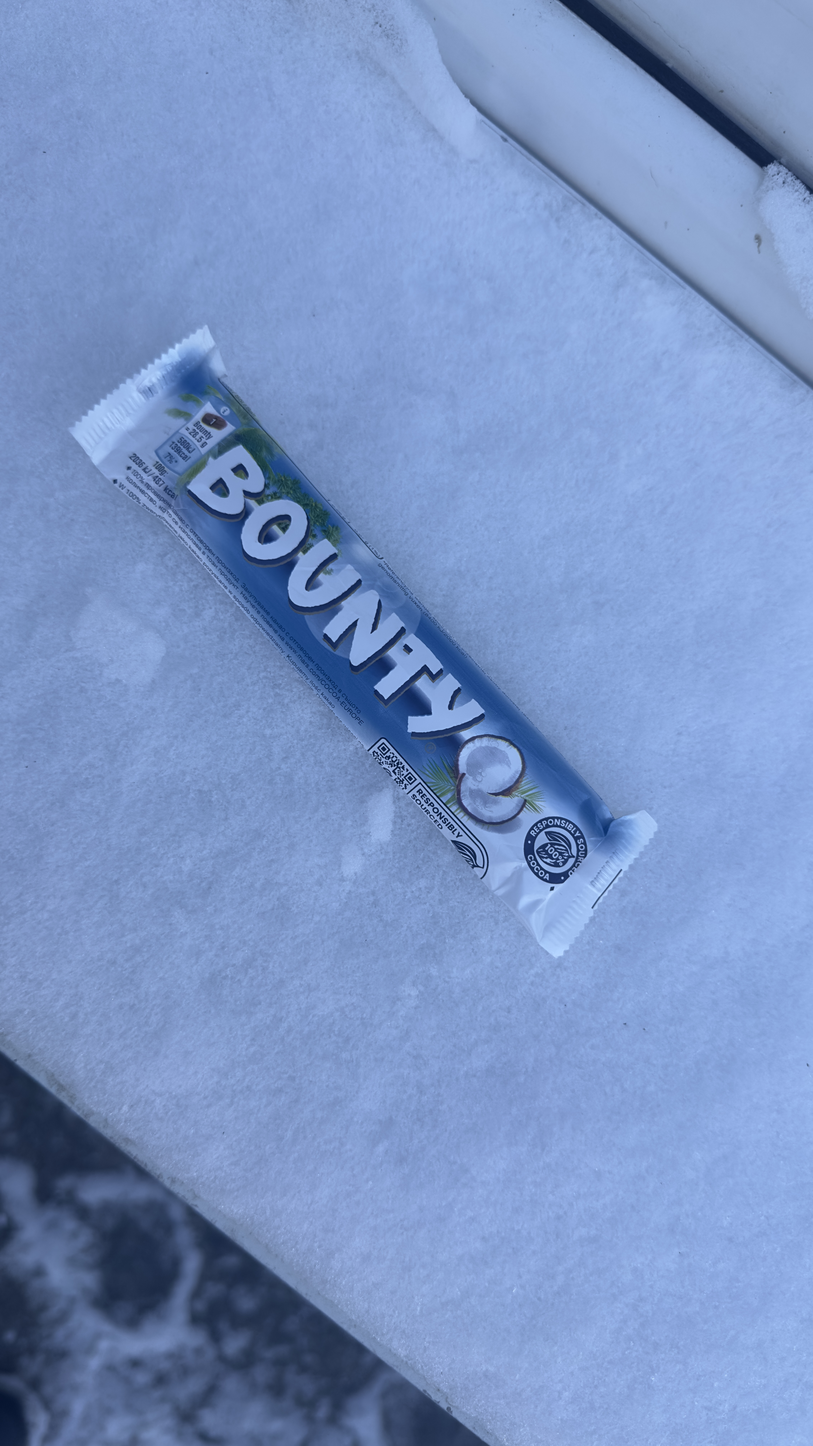BOUNTY: (65, 431, 250, 1158)
